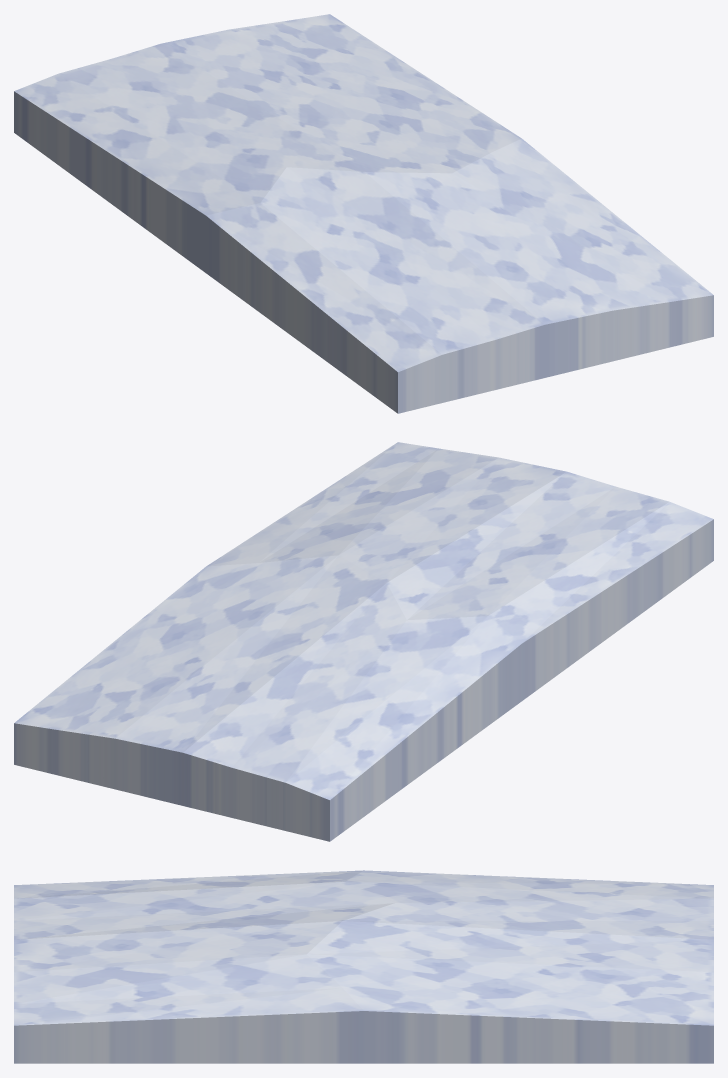
Rendered from snow_stair_edge.glb.
The picture shows the model from 3 angles, top to bottom: view 1: azimuth 30°, elevation 25°; view 2: azimuth 150°, elevation 25°; view 3: azimuth 270°, elevation 25°; orthographic projection. The views are drawn at different scales.
Parts seen in each view (by area): view 1: winter_snow_stair_edge; view 2: winter_snow_stair_edge; view 3: winter_snow_stair_edge.
Boxes of the visible parts, bbox=[...] form: winter_snow_stair_edge: bbox=[14, 14, 713, 413]; winter_snow_stair_edge: bbox=[14, 442, 713, 841]; winter_snow_stair_edge: bbox=[14, 870, 713, 1063].
Bounding box in the file's own units: 0.38 × 0.085 × 0.8.
Materials: 1 (1 with a texture image).
